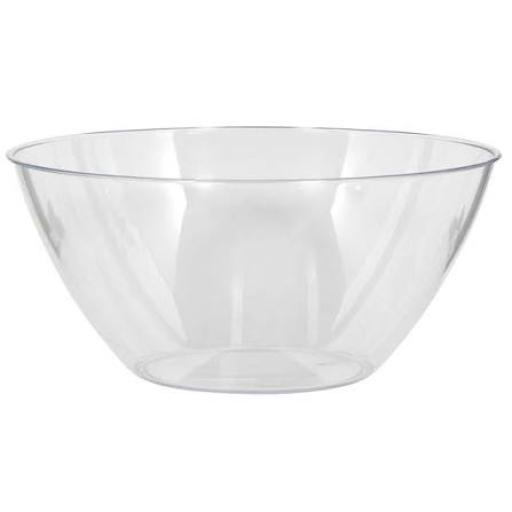Bowl: (8, 126, 499, 393)
